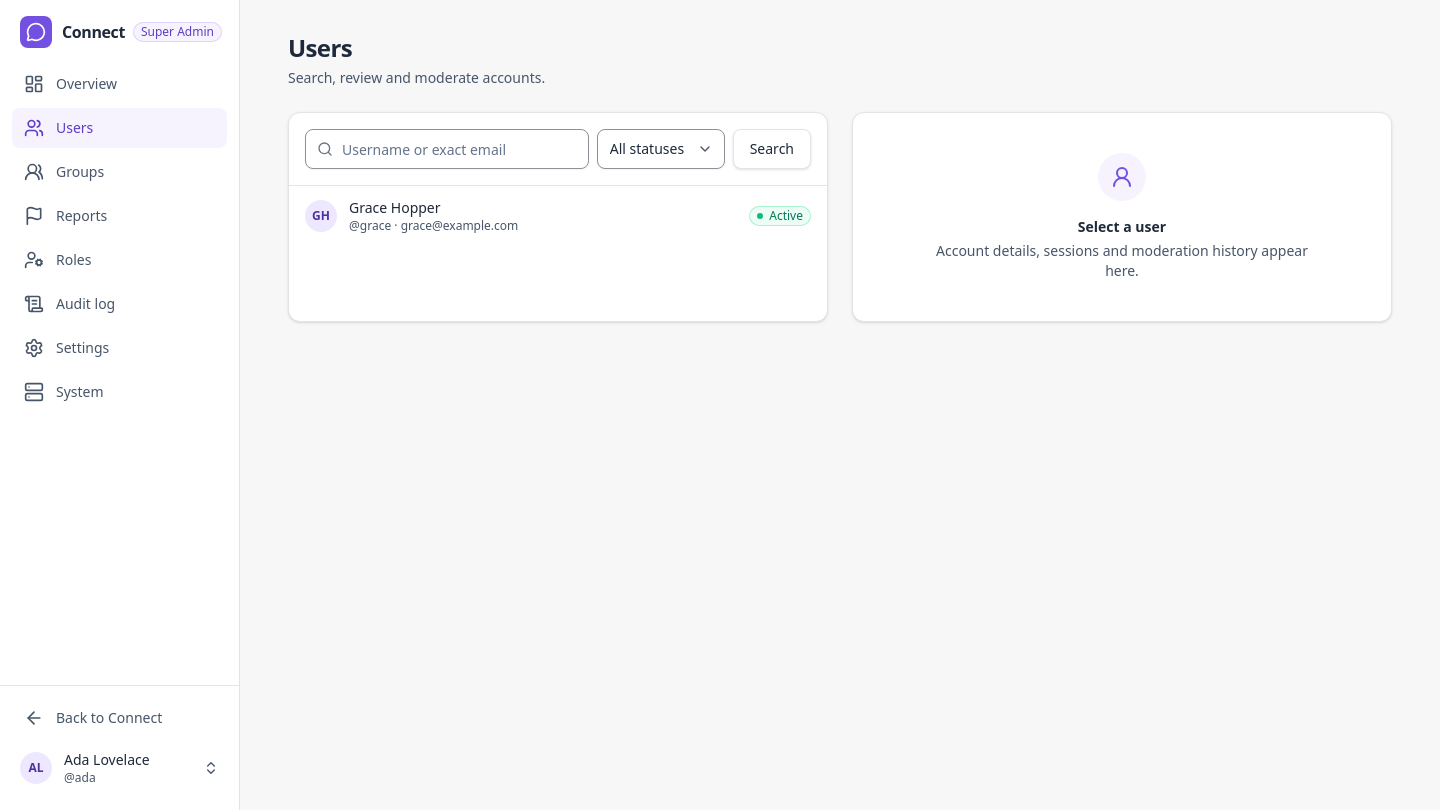
Test: user moderation › shows the server refusal (last Super Admin) instead of closing
Click the button "GH Grace Hopper @grace · grace@example.com Active" at point(321, 216), box 289,186 -> 827,246
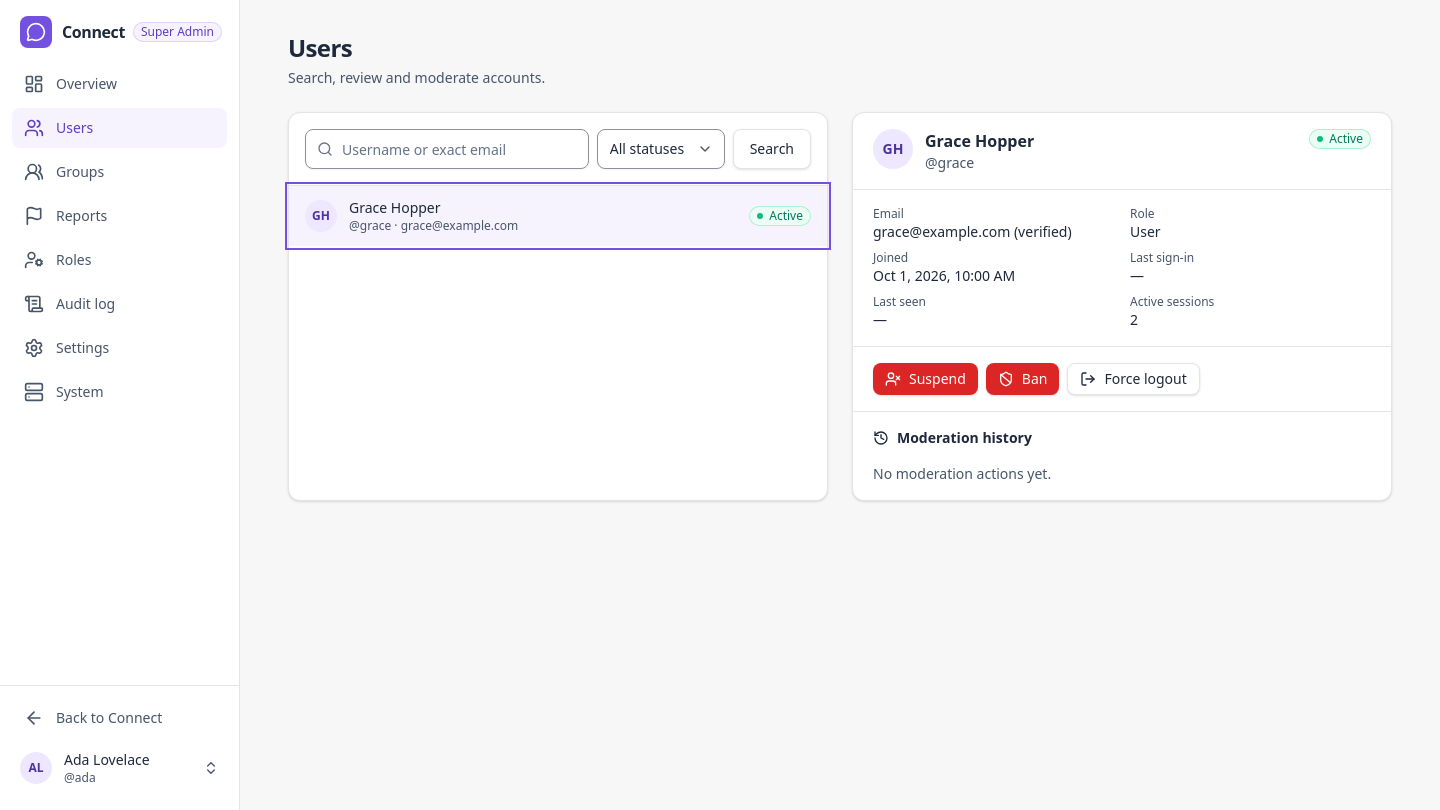
Check: the heading "Grace Hopper" is shown, box 925,130 -> 1034,152
Click the button "Ban" at point(1023, 379), box 986,363 -> 1059,395
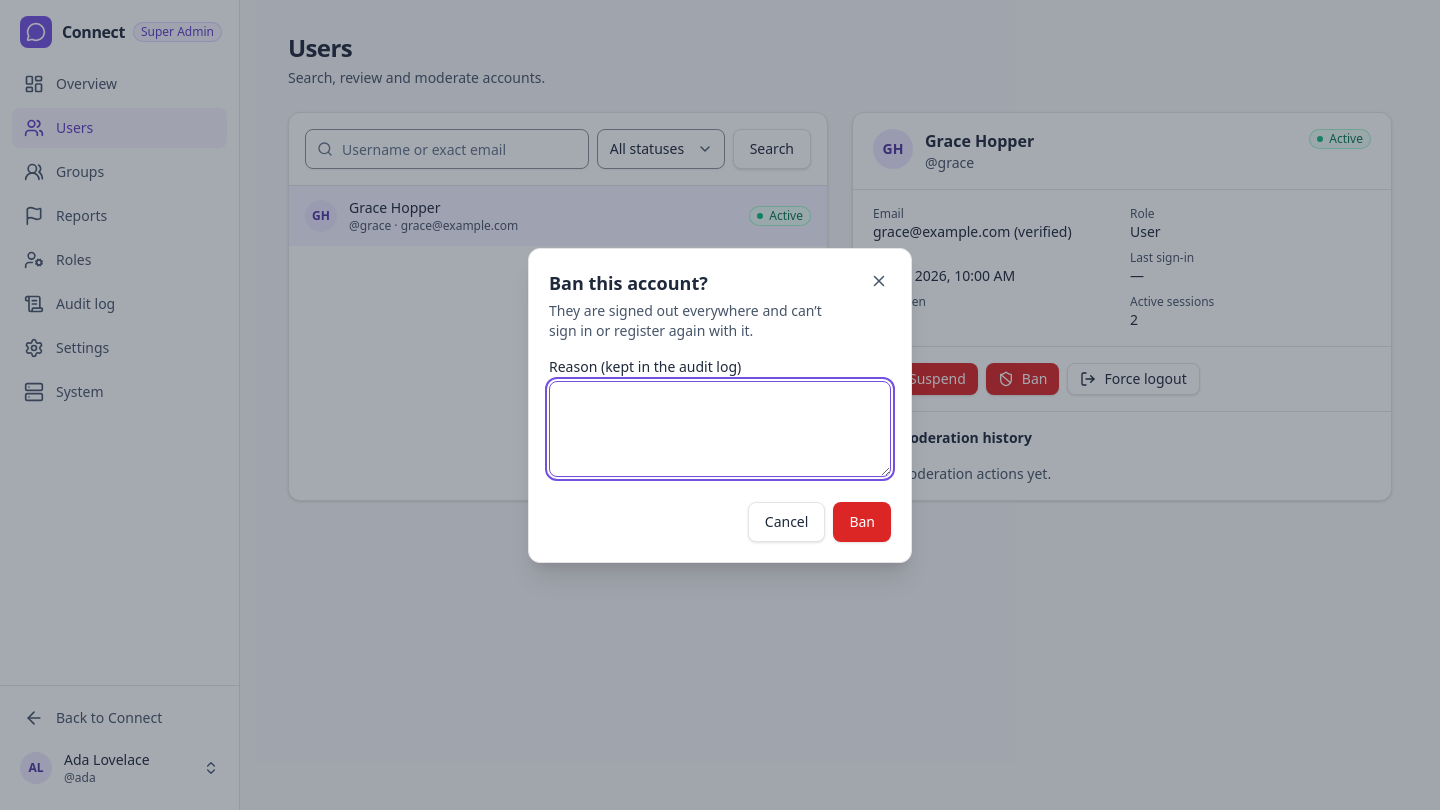
Type "Testing the rule" into the text box labelled "Reason (kept in the audit log)" at point(720, 428), box 549,380 -> 891,476
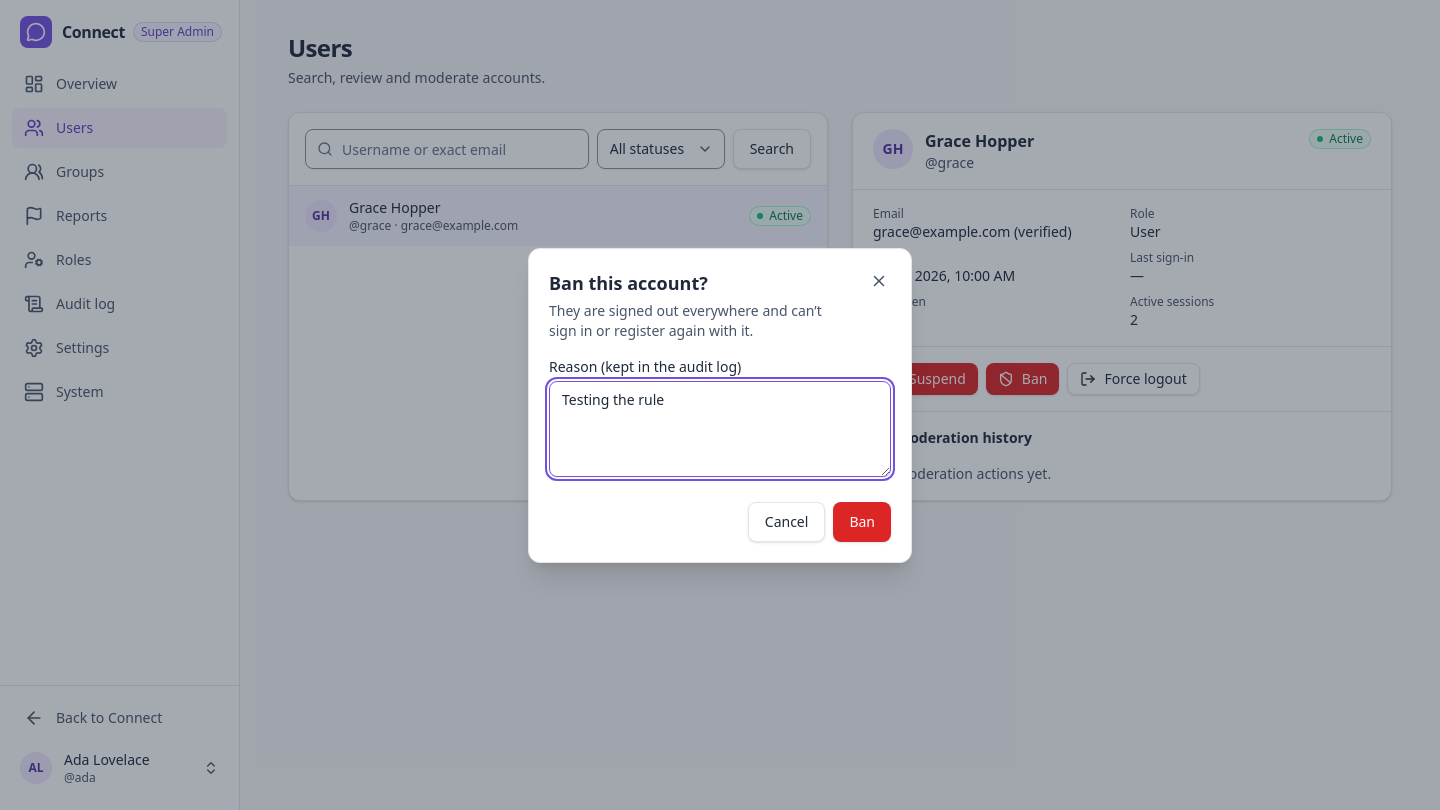
Click the button "Ban" at point(862, 522), box 833,502 -> 891,542
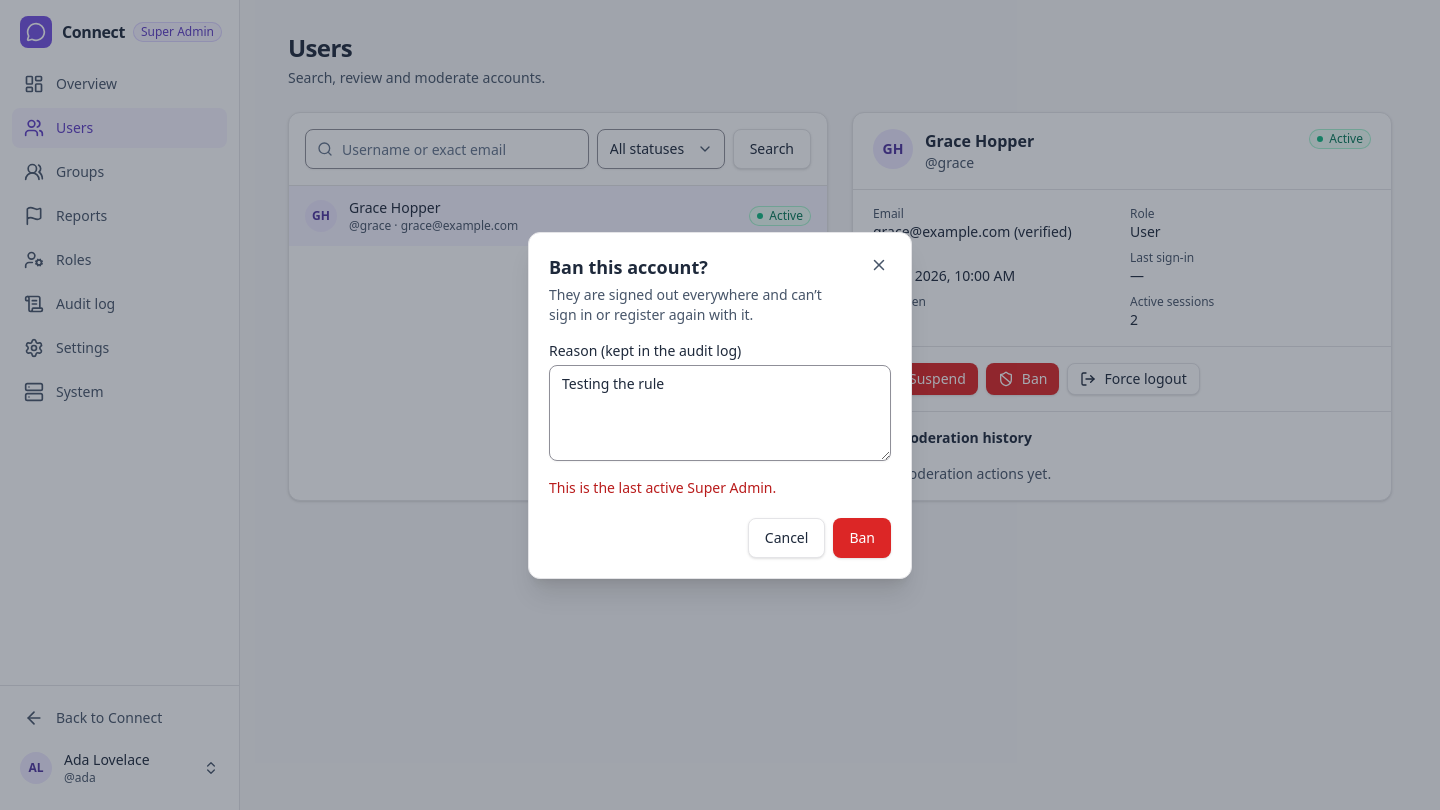
Check: the message reads "This is the last active Super Admin.", box 549,478 -> 776,496
